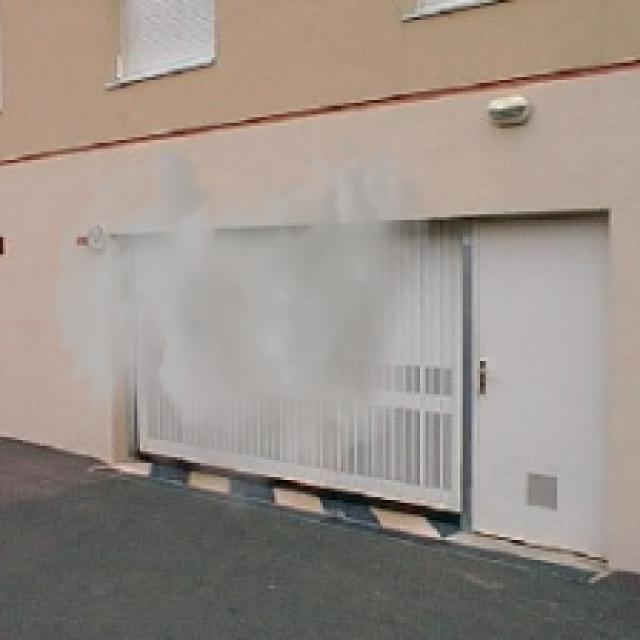smoke: (54, 134, 432, 526)
